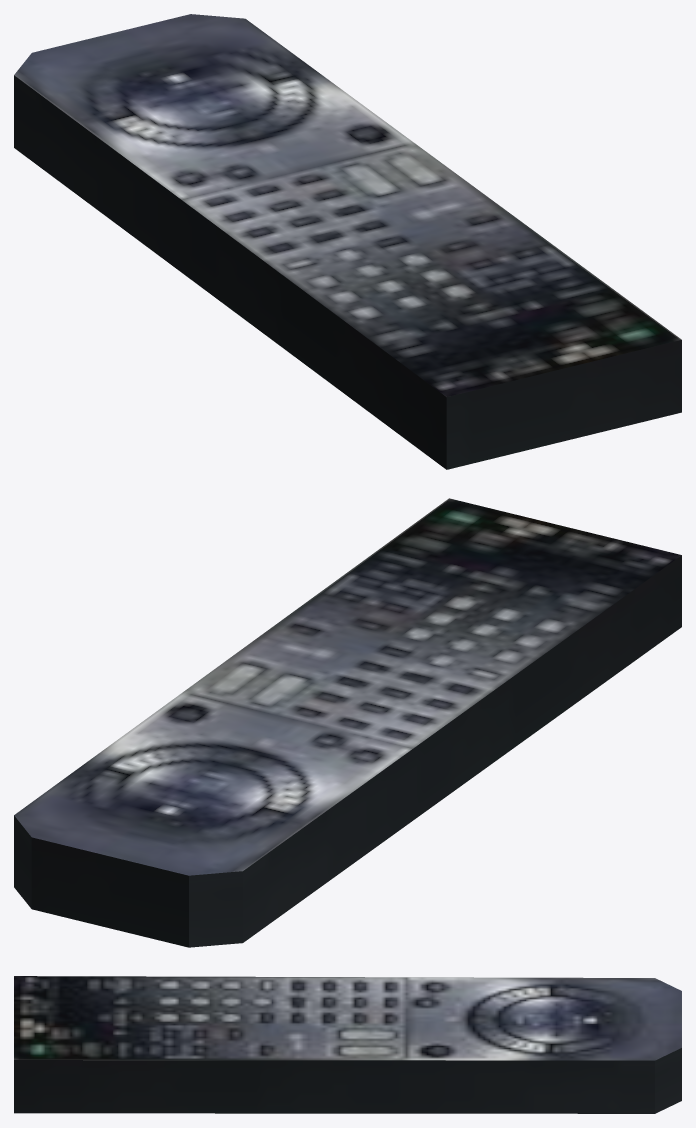
File: Control_02.glb
The picture shows the model from 3 angles, top to bottom: view 1: azimuth 30°, elevation 25°; view 2: azimuth 150°, elevation 25°; view 3: azimuth 270°, elevation 25°; orthographic projection. The views are drawn at different scales.
Visible parts, largest first — view 1: Control_02; view 2: Control_02; view 3: Control_02.
Boxes of the visible parts, bbox=[...] form: Control_02: bbox=[14, 14, 681, 469]; Control_02: bbox=[14, 498, 681, 947]; Control_02: bbox=[14, 976, 681, 1113].
Size of the model in its own units: 0.136 by 0.0399 by 0.4539.
1 material, 1 textured.
